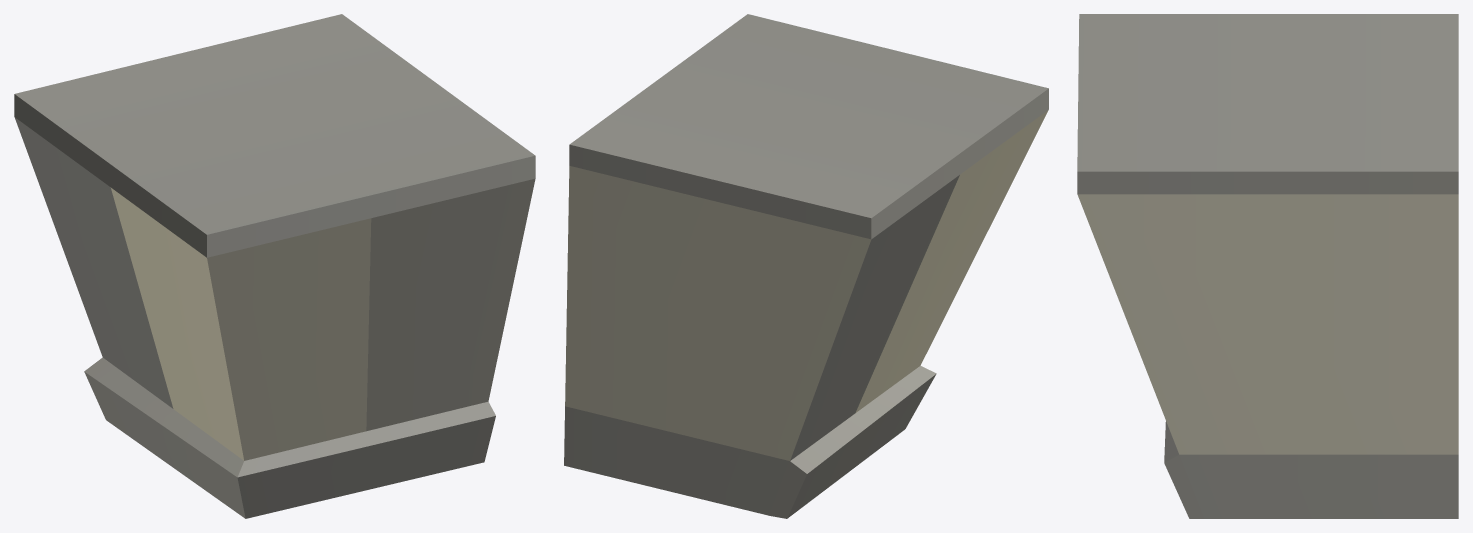
Rendered from B02_intersection_etage_corner_2.fbx.
3 views of the same model, side by side, from view 1: azimuth 30°, elevation 25°; view 2: azimuth 150°, elevation 25°; view 3: azimuth 270°, elevation 25° (orthographic). The views are drawn at different scales.
Visible parts, largest first — view 1: B02_intersection_etage_corner_2; view 2: B02_intersection_etage_corner_2; view 3: B02_intersection_etage_corner_2.
Boxes of the visible parts, x1,y1,x2,y2 form: B02_intersection_etage_corner_2: (14,14,535,518); B02_intersection_etage_corner_2: (564,14,1048,518); B02_intersection_etage_corner_2: (1077,14,1458,518).
Size of the model in its own units: 152 by 153 by 153.
